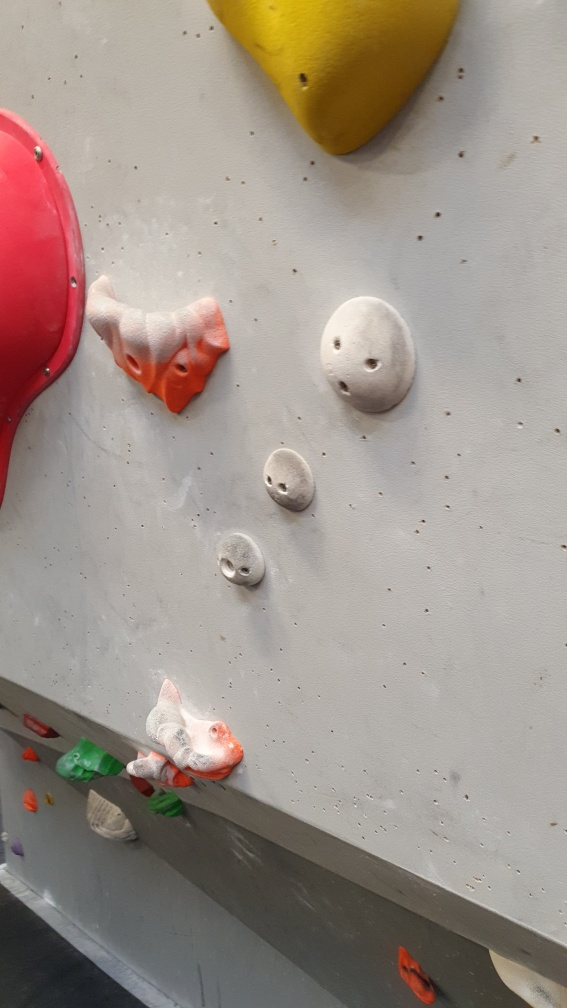Jug: (82, 273, 231, 420), (141, 671, 248, 785)
Sloper: (314, 292, 417, 416), (263, 447, 322, 514), (215, 530, 269, 589)
